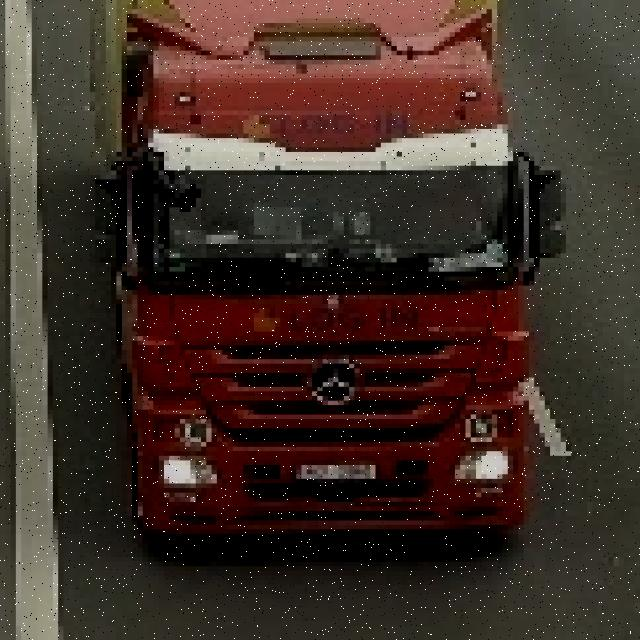truck: (106, 0, 571, 534)
